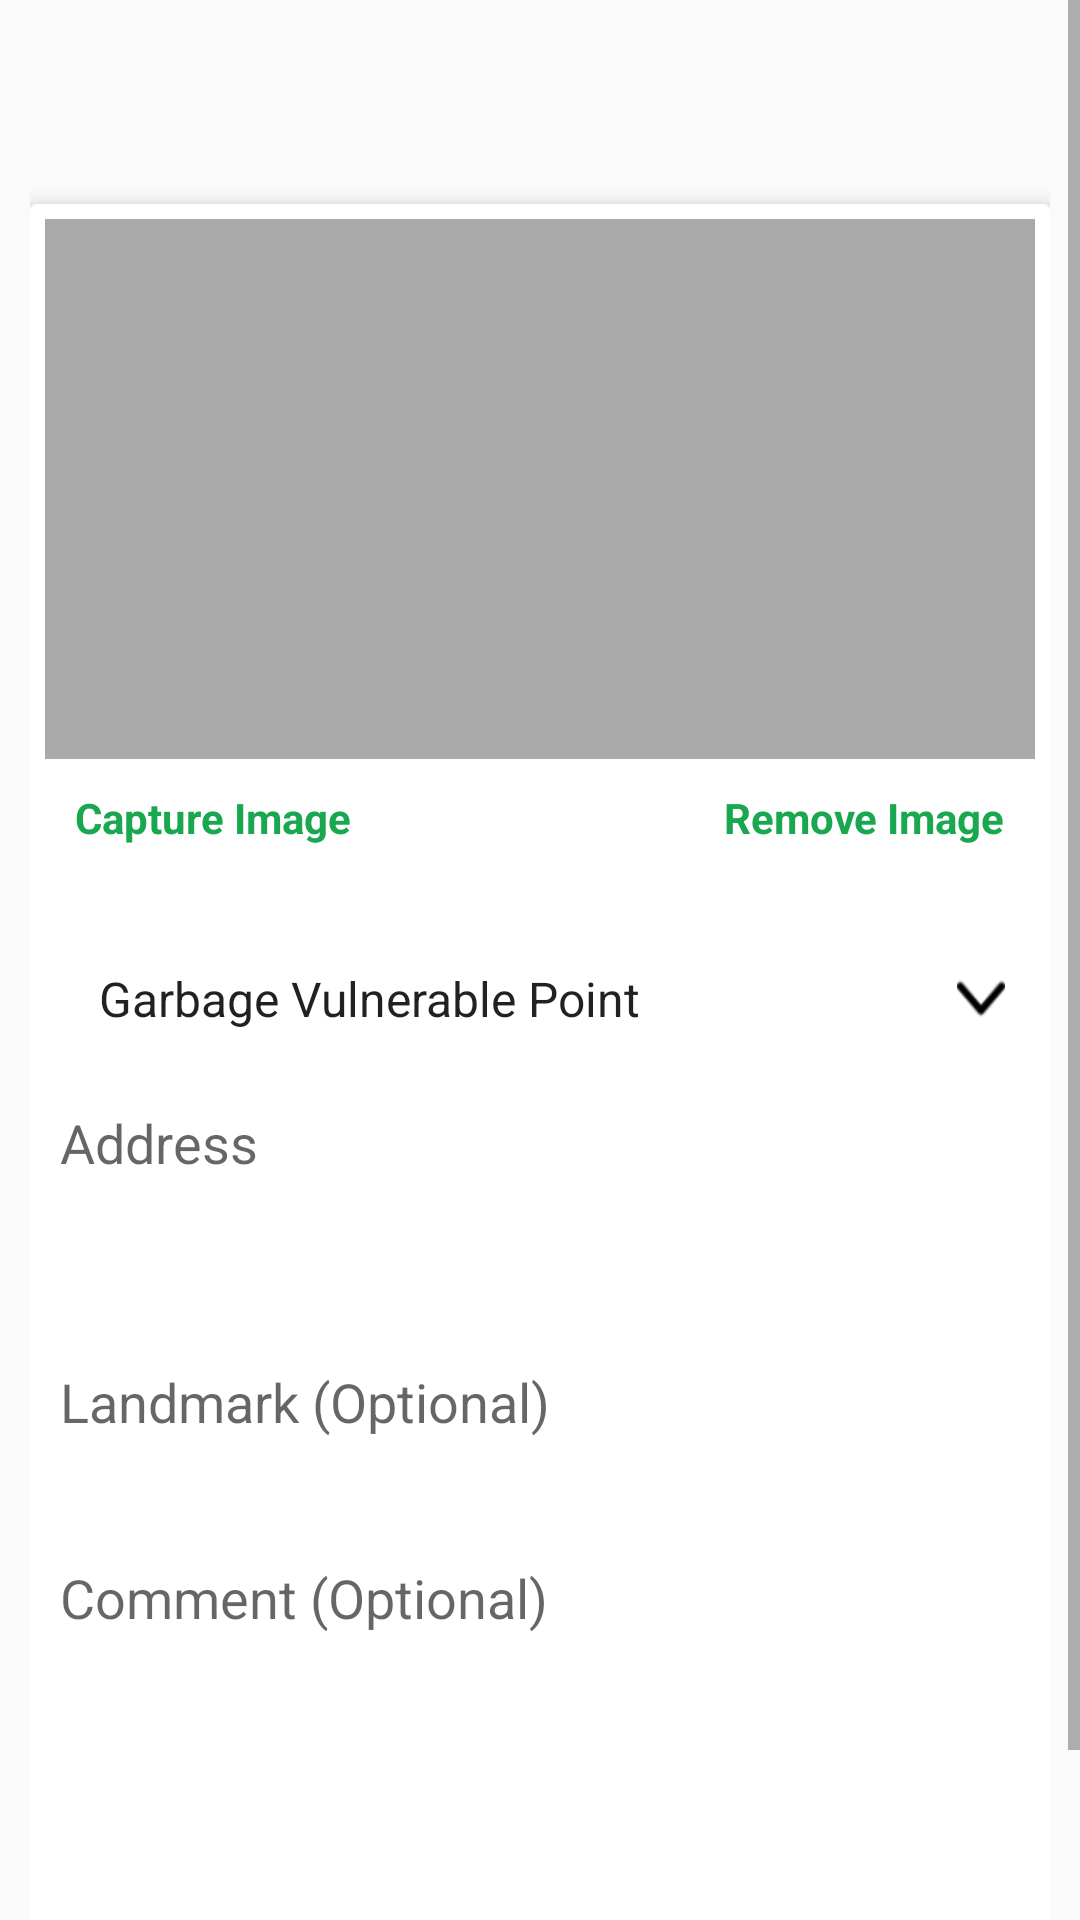

Locate icon controls on the screen. Image size 1080px×1920px, boxes as {"x1": x1, "y1": y1, "x2": x2, "y2": y2}.
down: {"x1": 957, "y1": 980, "x2": 1005, "y2": 1017}
